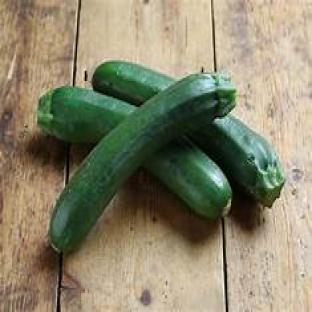Zucchini: (50, 75, 236, 251), (190, 116, 285, 206), (38, 87, 136, 143)
